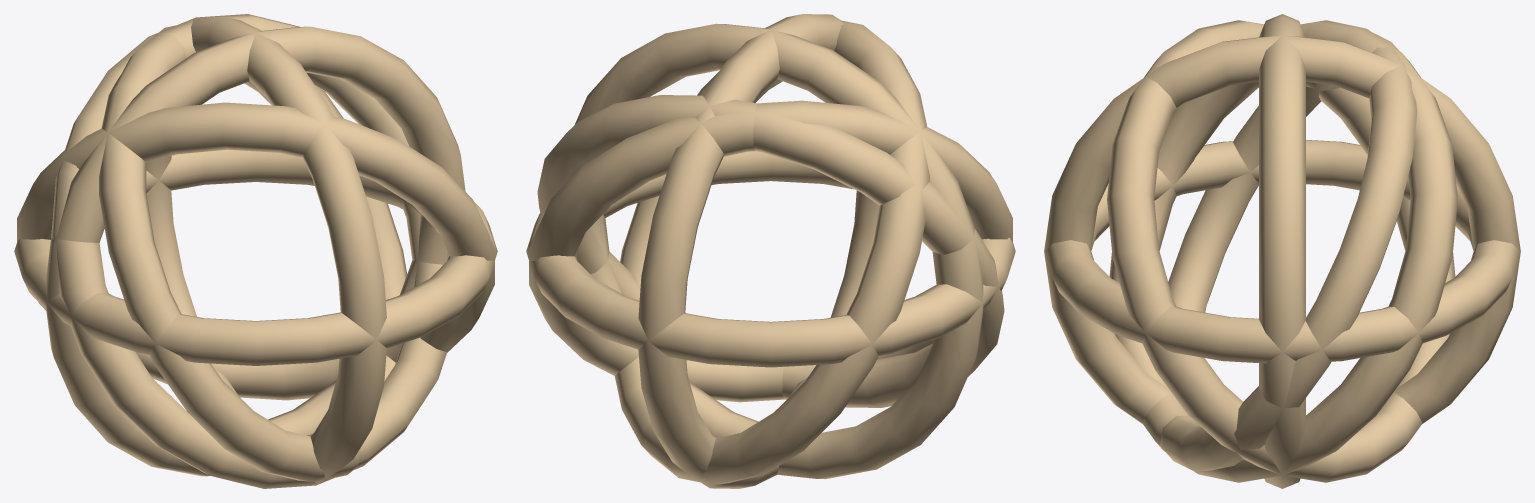
File: prop_small_ball.glb
The picture shows the model from 3 angles, left to right: view 1: azimuth 30°, elevation 25°; view 2: azimuth 150°, elevation 25°; view 3: azimuth 270°, elevation 25°; orthographic projection. The views are drawn at different scales.
Parts seen in each view (by area): view 1: prop_small_ball_band_1, prop_small_ball_band_4, prop_small_ball_band_0, prop_small_ball_band_5, prop_small_ball_band_3, prop_small_ball_band_2; view 2: prop_small_ball_band_1, prop_small_ball_band_4, prop_small_ball_band_3, prop_small_ball_band_0, prop_small_ball_band_2, prop_small_ball_band_5; view 3: prop_small_ball_band_2, prop_small_ball_band_4, prop_small_ball_band_5, prop_small_ball_band_3, prop_small_ball_band_0, prop_small_ball_band_1.
Part boxes in pixels (x1=…): prop_small_ball_band_1: x1=46, y1=26, x2=465, y2=476; prop_small_ball_band_4: x1=17, y1=102, x2=494, y2=400; prop_small_ball_band_0: x1=14, y1=149, x2=497, y2=365; prop_small_ball_band_5: x1=51, y1=14, x2=446, y2=488; prop_small_ball_band_3: x1=99, y1=25, x2=407, y2=481; prop_small_ball_band_2: x1=146, y1=17, x2=386, y2=484; prop_small_ball_band_1: x1=574, y1=23, x2=983, y2=479; prop_small_ball_band_4: x1=614, y1=20, x2=929, y2=484; prop_small_ball_band_3: x1=529, y1=100, x2=1012, y2=402; prop_small_ball_band_0: x1=526, y1=151, x2=1015, y2=367; prop_small_ball_band_2: x1=638, y1=14, x2=879, y2=488; prop_small_ball_band_5: x1=537, y1=95, x2=1004, y2=407; prop_small_ball_band_2: x1=1044, y1=35, x2=1520, y2=423; prop_small_ball_band_4: x1=1107, y1=20, x2=1455, y2=482; prop_small_ball_band_5: x1=1160, y1=33, x2=1417, y2=470; prop_small_ball_band_3: x1=1109, y1=20, x2=1457, y2=482; prop_small_ball_band_0: x1=1044, y1=140, x2=1520, y2=363; prop_small_ball_band_1: x1=1259, y1=14, x2=1305, y2=488.
Bounding box in the file's own units: 0.0444 × 0.0444 × 0.0444.
